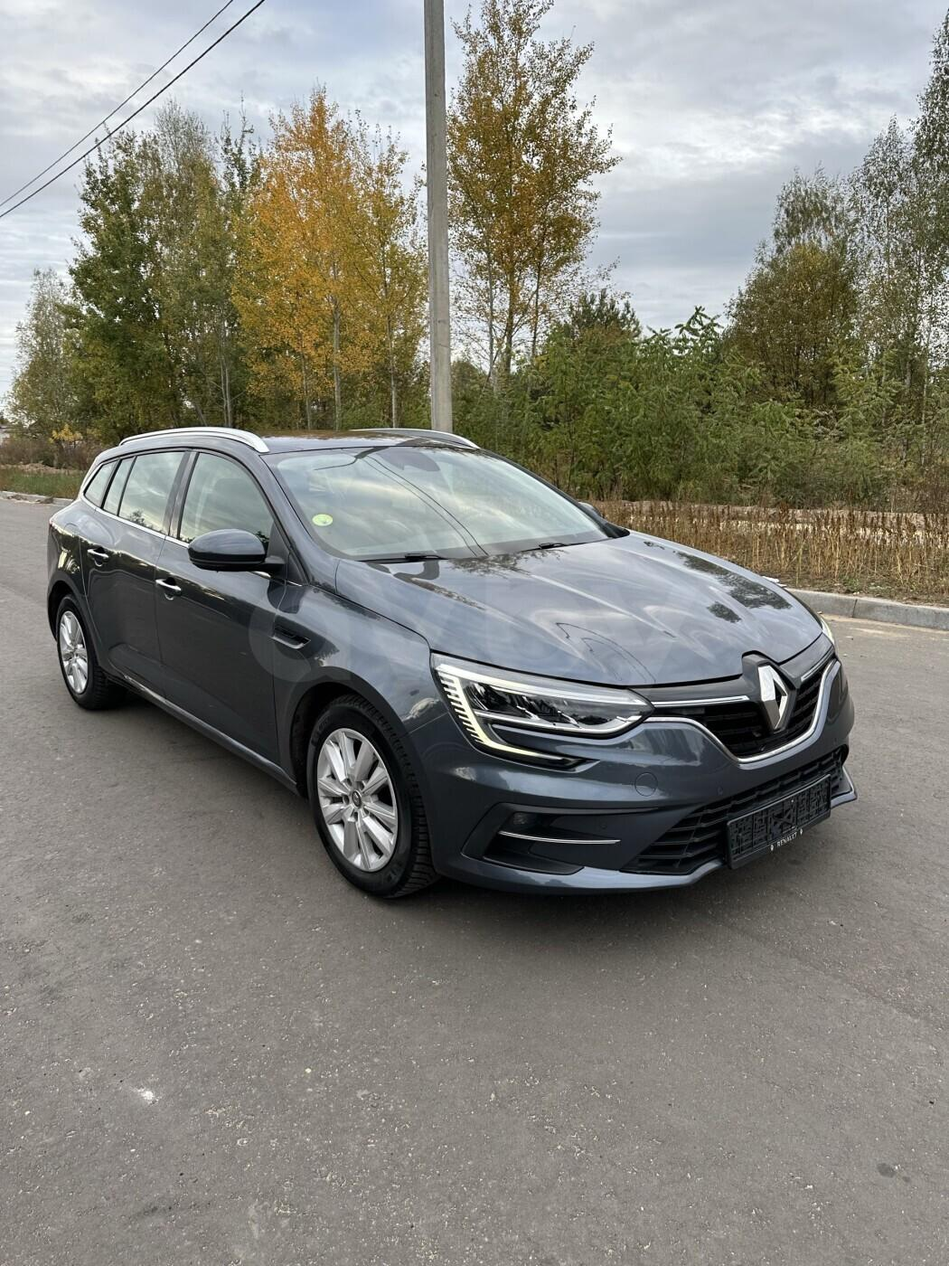Megane_2020: (43, 427, 862, 935)
